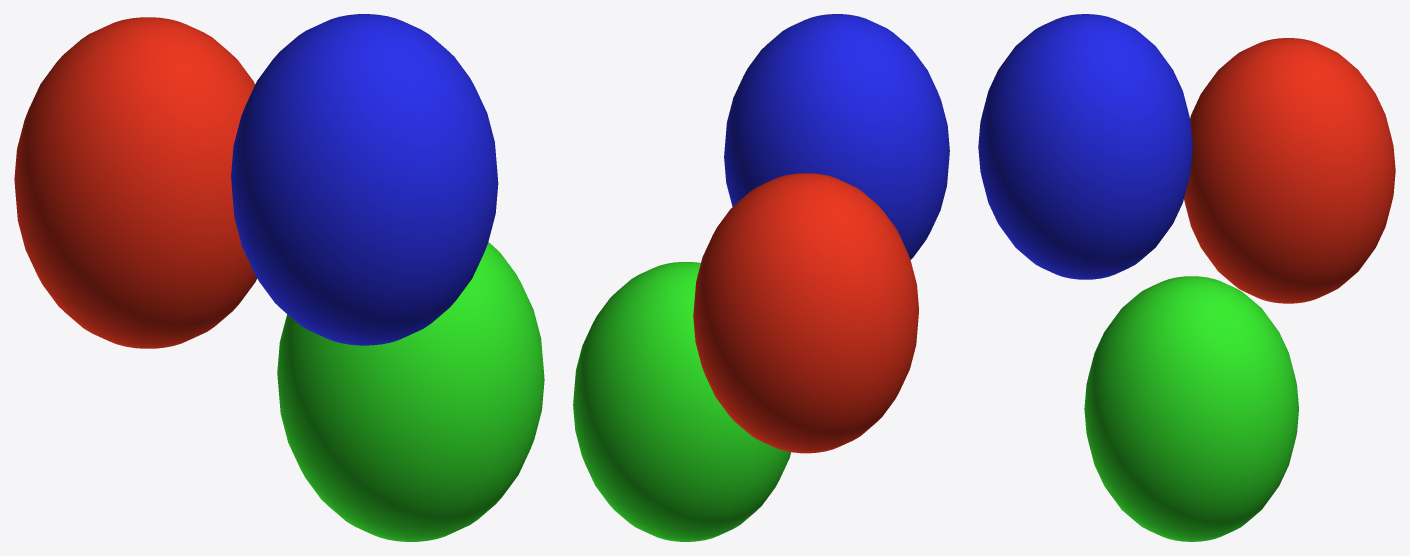
Rendered from RedBal.fbx.
3 renders of one model, left to right at view 1: azimuth 30°, elevation 25°; view 2: azimuth 150°, elevation 25°; view 3: azimuth 270°, elevation 25°, orthographic. The views are drawn at different scales.
Parts seen in each view (by area): view 1: Sphere, Sphere.001, Sphere.002; view 2: Sphere.001, Sphere.002, Sphere; view 3: Sphere, Sphere.002, Sphere.001.
Part boxes in pixels (x1,y1,x2,y2): Sphere: [231, 14, 498, 345]; Sphere.001: [14, 17, 257, 348]; Sphere.002: [277, 242, 544, 541]; Sphere.001: [693, 173, 918, 453]; Sphere.002: [573, 262, 790, 541]; Sphere: [724, 14, 949, 259]; Sphere: [978, 14, 1192, 279]; Sphere.002: [1084, 276, 1298, 541]; Sphere.001: [1184, 38, 1395, 303].
Bounding box in the file's own units: 375 × 481 × 389.
